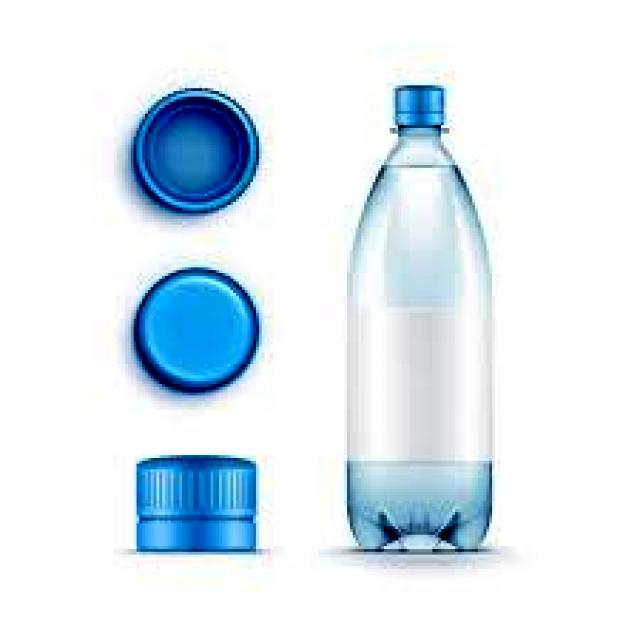Plastic: (342, 82, 497, 555), (131, 85, 266, 214), (132, 266, 262, 392), (134, 453, 262, 551)
